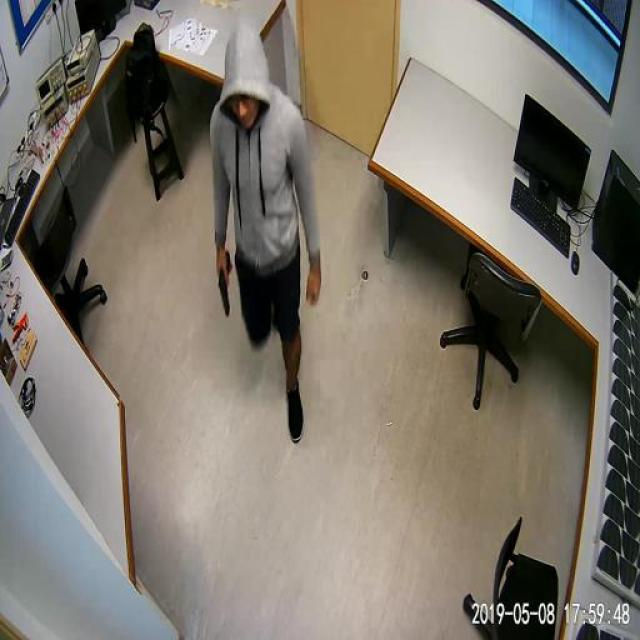Gun: (210, 256, 238, 319)
